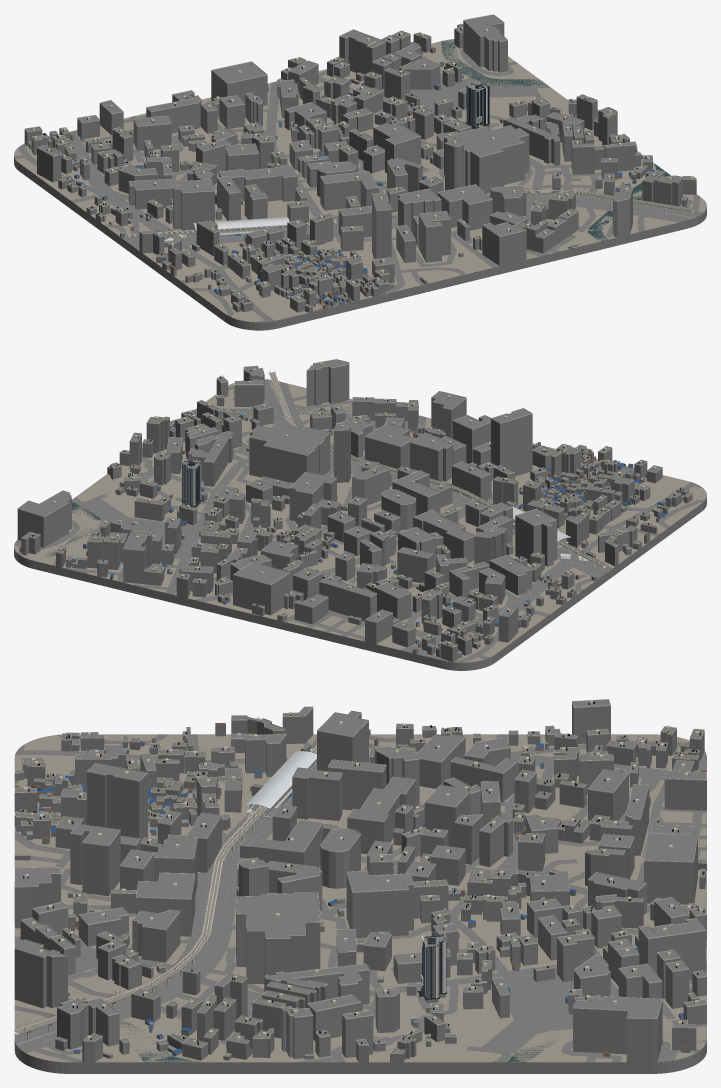
The model's file is 723-avenue.glb.
3 renders of one model, top to bottom at view 1: azimuth 30°, elevation 25°; view 2: azimuth 150°, elevation 25°; view 3: azimuth 270°, elevation 25°, orthographic. The views are drawn at different scales.
Parts seen in each view (by area): view 1: context, ground, plinth, rooftops, metro, opt_723-avenue, stations; view 2: context, ground, plinth, rooftops, metro, opt_723-avenue; view 3: context, ground, plinth, rooftops, metro, stations, opt_723-avenue.
Boxes of the visible parts, box(x1,y1,x2,y2) form: context: box(24, 14, 696, 312); ground: box(14, 39, 706, 322); plinth: box(14, 156, 706, 330); rooftops: box(31, 27, 692, 301); metro: box(129, 188, 693, 240); opt_723-avenue: box(465, 80, 490, 129); stations: box(193, 217, 289, 240); context: box(17, 359, 692, 662); ground: box(14, 379, 706, 662); plinth: box(14, 496, 706, 670); rooftops: box(30, 362, 683, 648); metro: box(269, 371, 607, 568); opt_723-avenue: box(181, 458, 201, 507); context: box(14, 699, 706, 1062); ground: box(14, 734, 706, 1062); plinth: box(14, 734, 706, 1073); rooftops: box(20, 700, 704, 1044); metro: box(14, 745, 316, 1039); stations: box(246, 751, 316, 820); opt_723-avenue: box(417, 931, 447, 1003).
Bounding box in the file's own units: 853 × 115 × 761.
